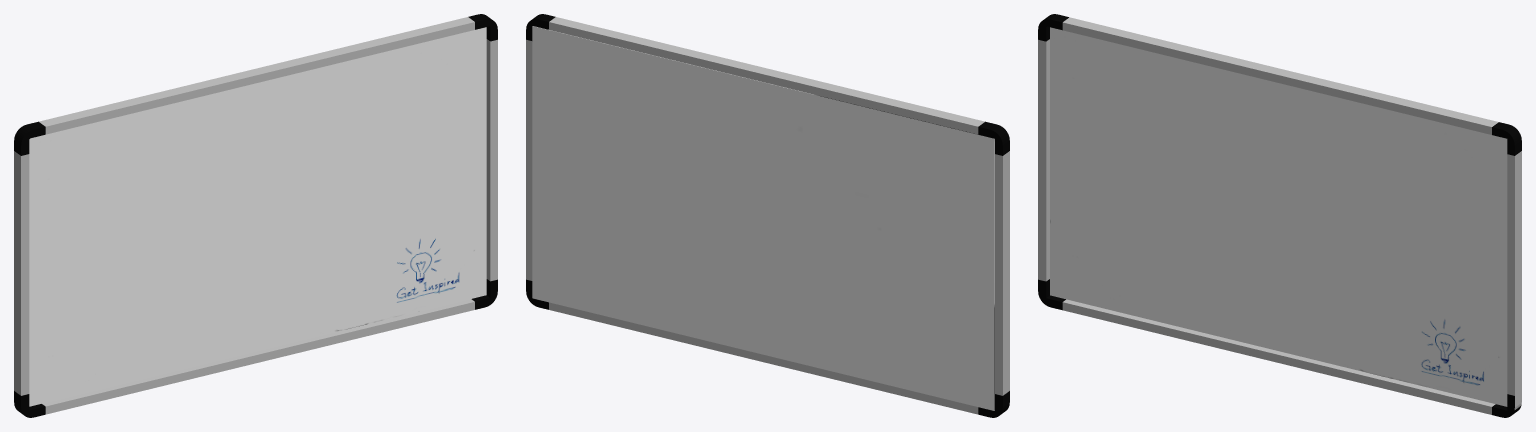
Rendered from Whiteboard2.fbx.
The picture shows the model from 3 angles, left to right: view 1: azimuth 30°, elevation 25°; view 2: azimuth 150°, elevation 25°; view 3: azimuth 330°, elevation 25°; orthographic projection.
Visible parts, largest first — view 1: Whiteboard; view 2: Whiteboard; view 3: Whiteboard.
Part boxes in pixels (x1,y1,x2,y2): Whiteboard: [14, 14, 497, 417]; Whiteboard: [526, 14, 1009, 417]; Whiteboard: [1038, 14, 1521, 417].
Bounding box in the file's own units: 178 × 103 × 4.65.
